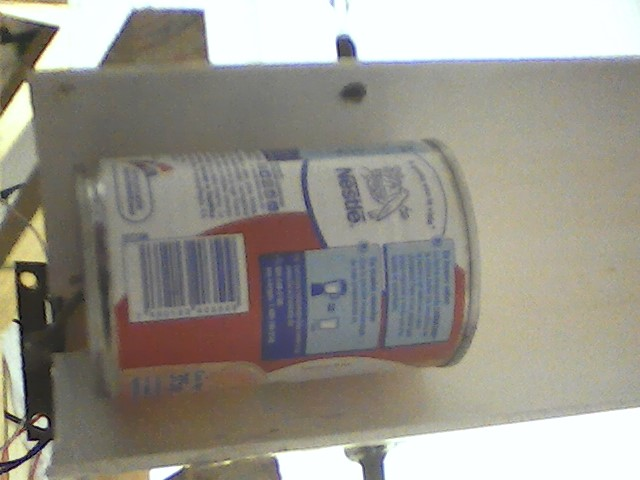lata: (71, 138, 494, 408)
